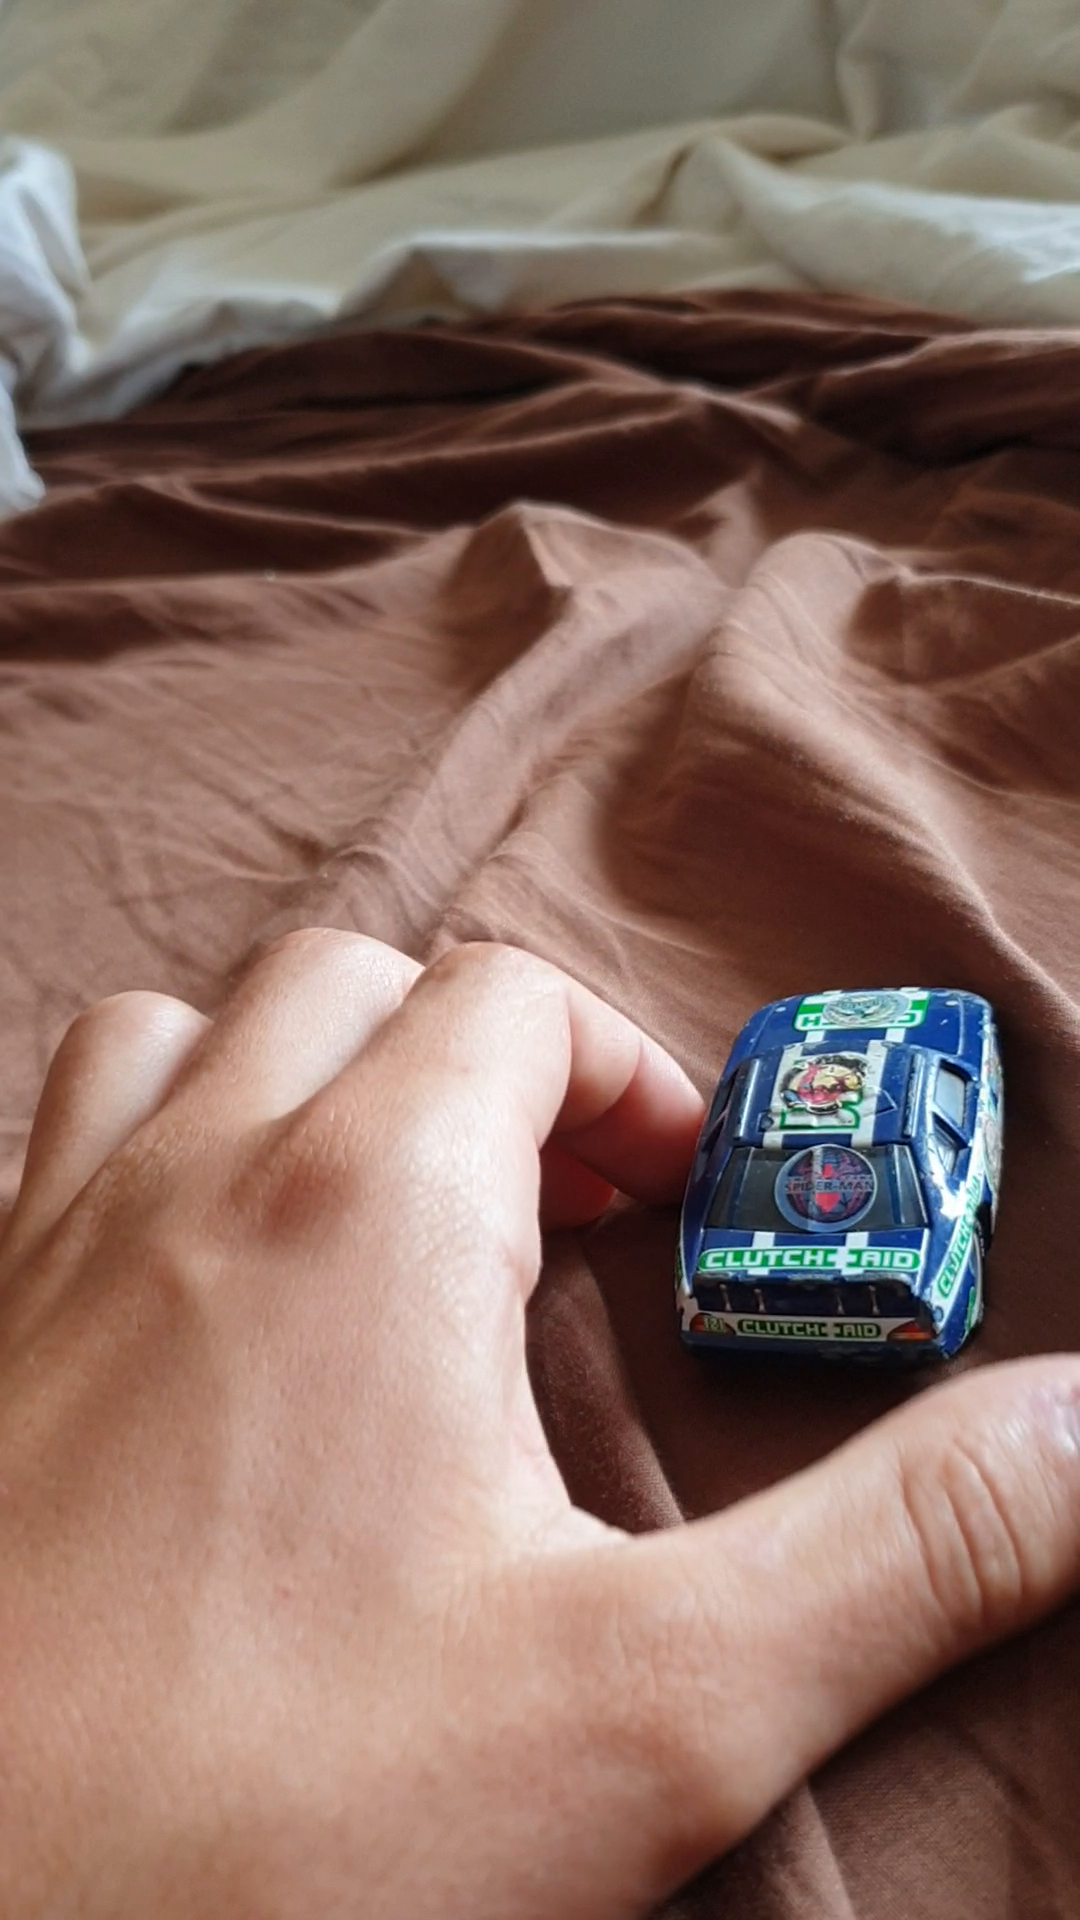cars: (679, 980, 1007, 1345)
